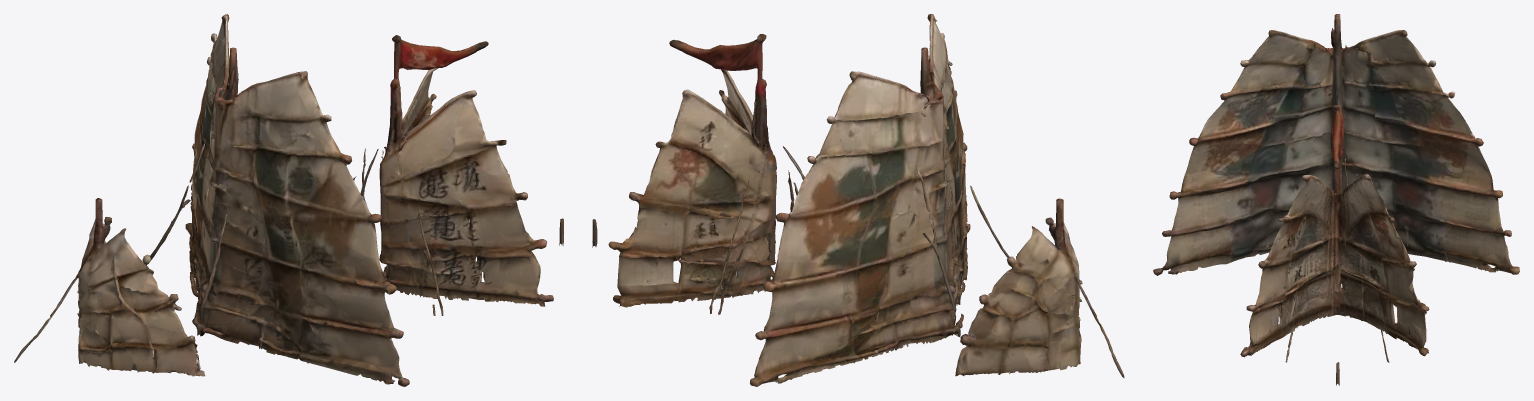
File: Golden_Galleon_compressed_80_instanced_l1.glb
3 views of the same model, side by side, from view 1: azimuth 30°, elevation 25°; view 2: azimuth 150°, elevation 25°; view 3: azimuth 270°, elevation 25° (orthographic). The views are drawn at different scales.
Visible parts, largest first — view 1: Mesh_0.001; view 2: Mesh_0.001; view 3: Mesh_0.001.
Part boxes in pixels (x1,y1,x2,y2): Mesh_0.001: (14, 14, 563, 386); Mesh_0.001: (592, 14, 1124, 386); Mesh_0.001: (1153, 14, 1519, 385).
Size of the model in its own units: 64460 by 31847 by 44809.
1 material, 1 textured.
